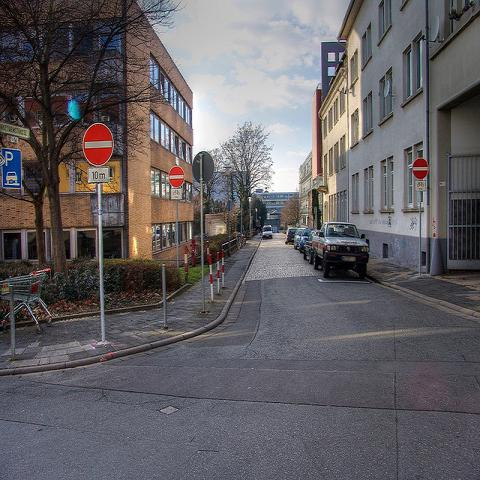car: (304, 228, 320, 264), (298, 226, 313, 252), (294, 228, 303, 250), (285, 228, 297, 244), (262, 224, 272, 240)
truck: (310, 222, 370, 278)
